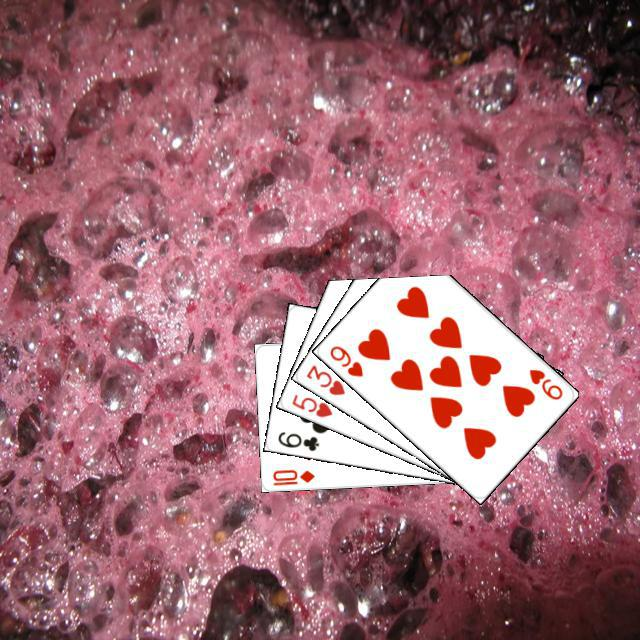10d: (268, 465, 316, 487)
3h: (301, 360, 347, 397)
5h: (287, 389, 334, 419)
6c: (273, 427, 321, 453)
9h: (325, 341, 365, 379), (524, 364, 564, 402)
